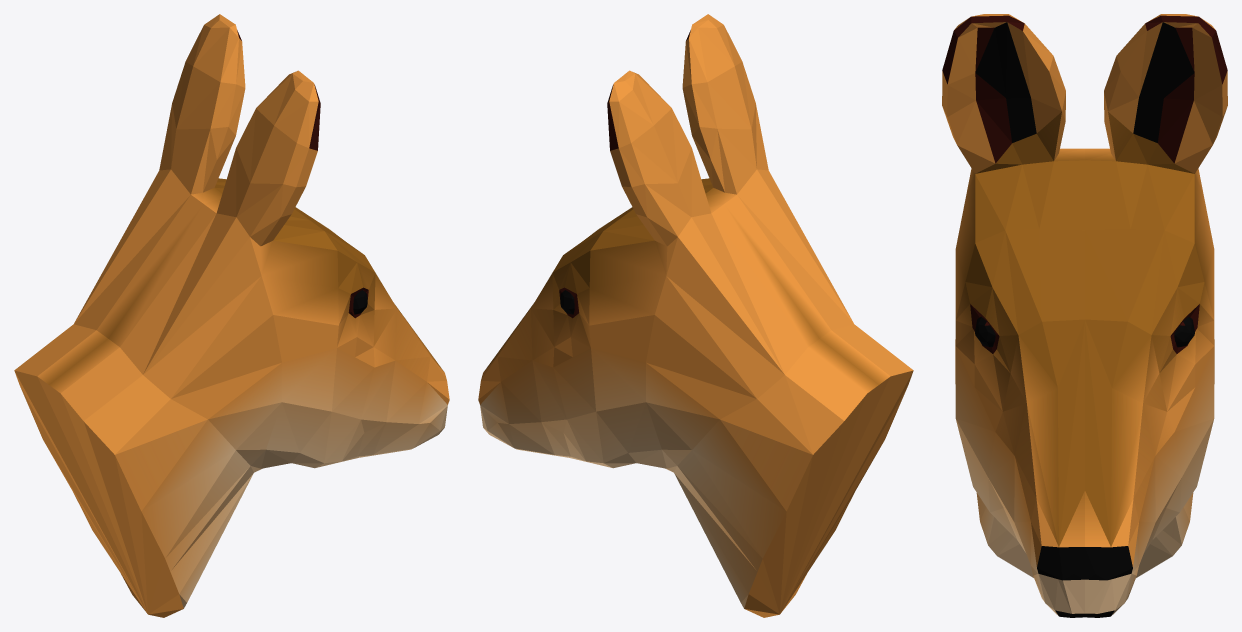
Rendered from kangaroo_head.obj.
3 views of the same model, side by side, from view 1: azimuth 30°, elevation 25°; view 2: azimuth 150°, elevation 25°; view 3: azimuth 270°, elevation 25° (orthographic). The views are drawn at different scales.
Visible parts, largest first — view 1: Plane.001; view 2: Plane.001; view 3: Plane.001.
Part boxes in pixels (box(x1,y1,x2,y2)): Plane.001: box(14, 14, 449, 617); Plane.001: box(478, 14, 913, 617); Plane.001: box(942, 14, 1227, 617).
Bounding box in the file's own units: 0.4805 × 0.6307 × 0.2511.
